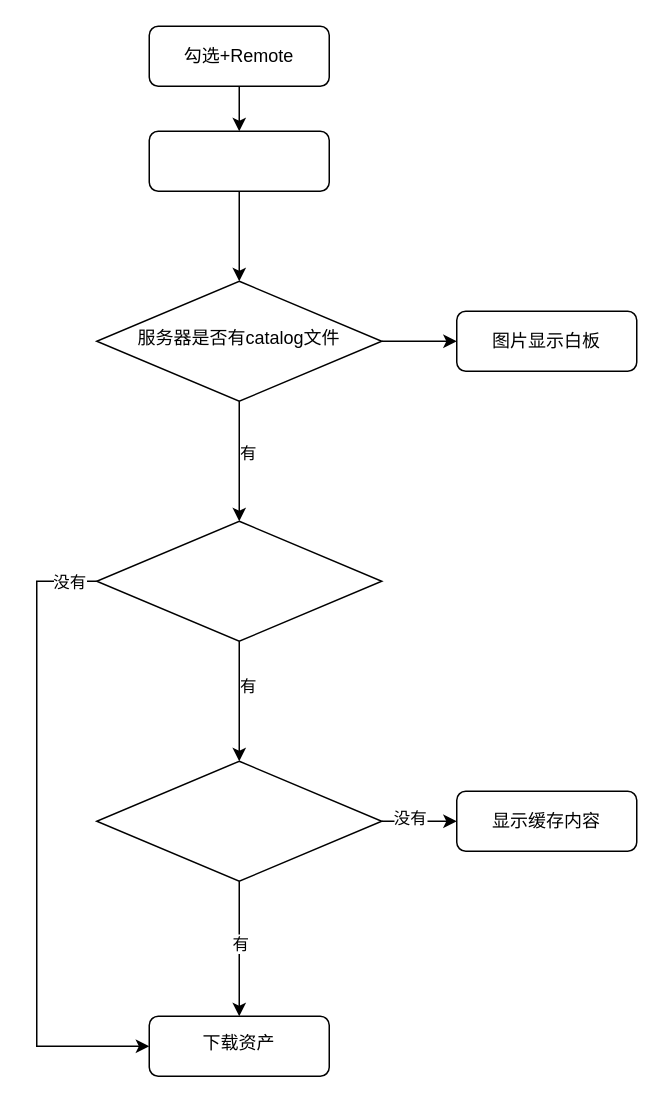
This 663x1103 diagram has some shape labels left out. Each missing label, with the centre of its shape:
"Remote Group组" goes at (238,160).
"是否有更新" goes at (238,820).
"是否有缓存文件" goes at (238,580).
